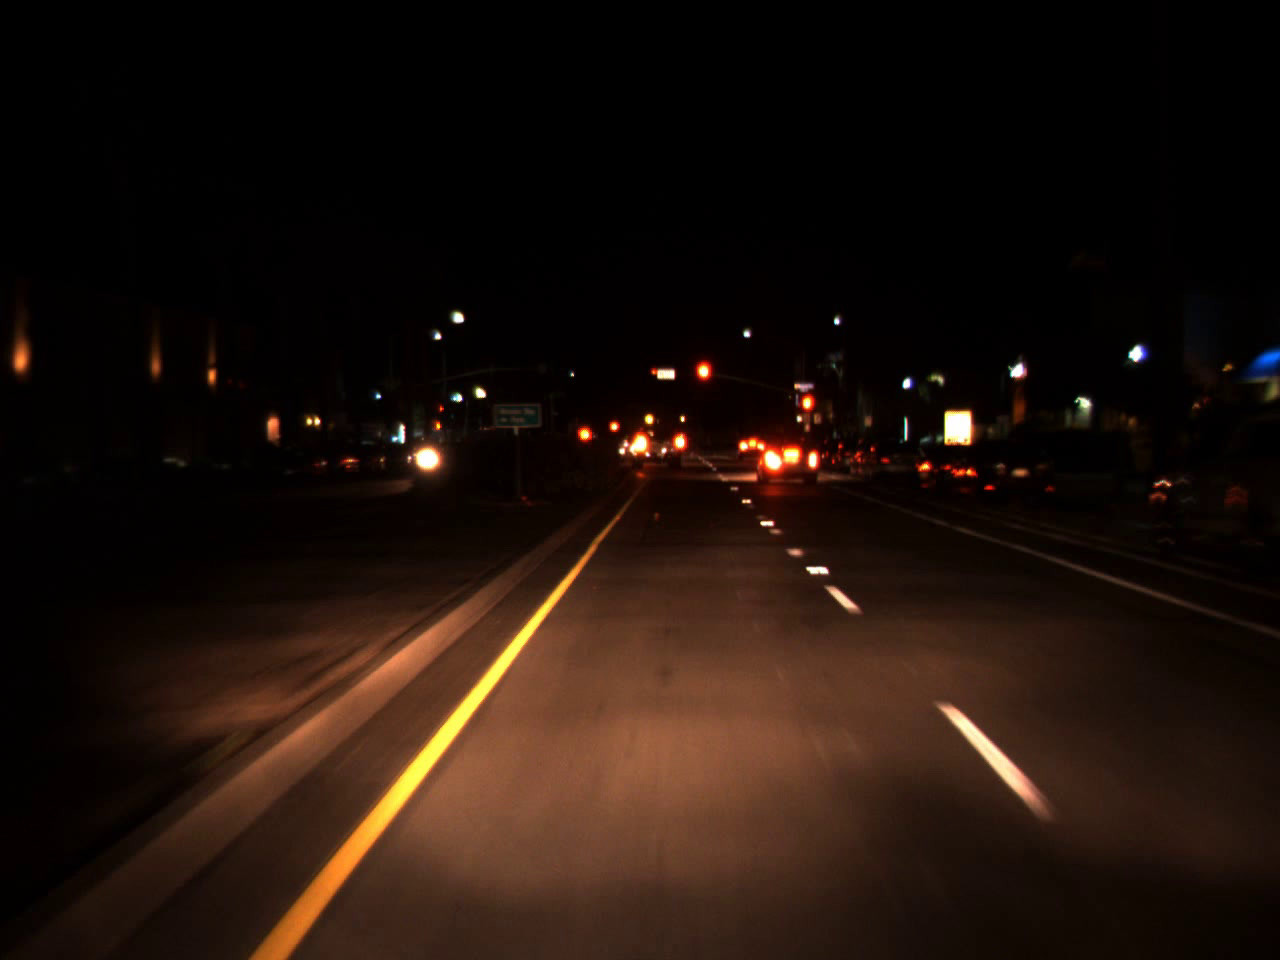stop: (693, 357, 714, 405), (799, 392, 817, 429), (650, 369, 659, 379), (438, 405, 444, 415)
